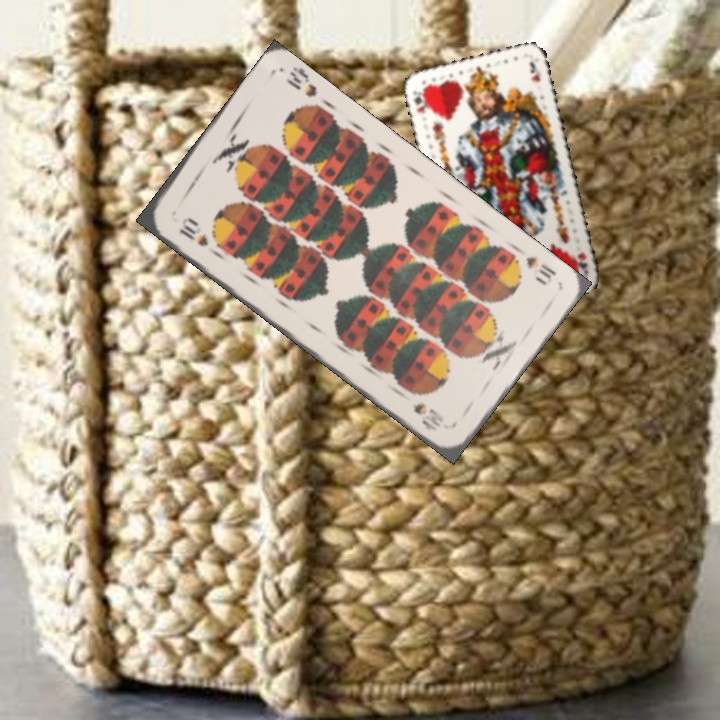HK: (409, 84, 431, 116), (573, 248, 591, 276)
S10: (522, 252, 559, 289), (175, 215, 211, 250)
